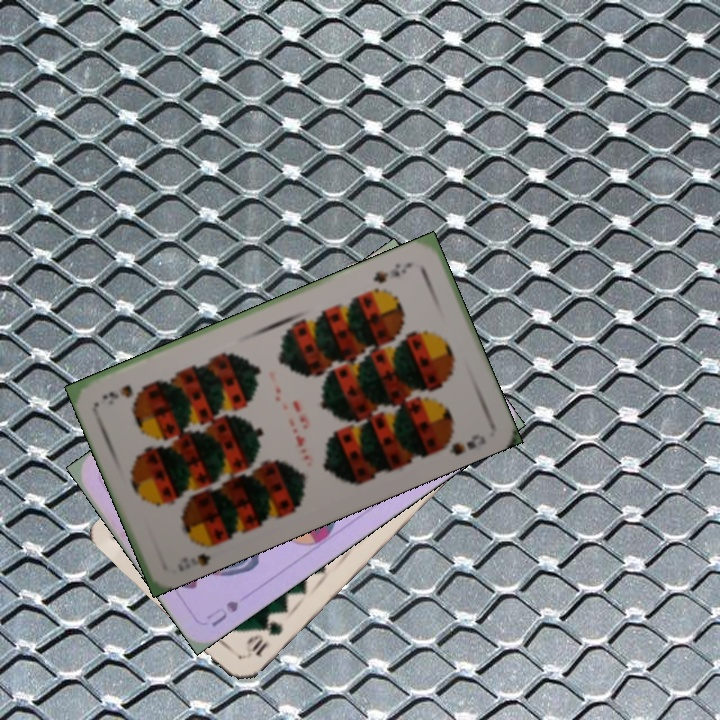G10: (239, 617, 286, 661)
S9: (369, 258, 415, 286), (185, 538, 222, 569)
SU: (202, 596, 241, 630)
